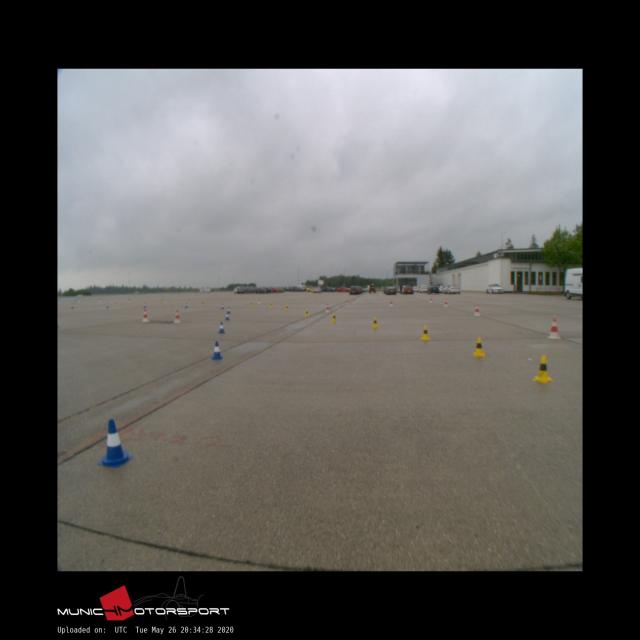blue_cone: (98, 420, 133, 468), (212, 342, 222, 358), (218, 321, 225, 333), (225, 312, 230, 320), (227, 307, 230, 313)
yellow_cone: (533, 355, 553, 383), (473, 337, 484, 356), (420, 326, 430, 340), (372, 316, 378, 328), (332, 313, 337, 322), (305, 309, 309, 316), (285, 304, 289, 310)
